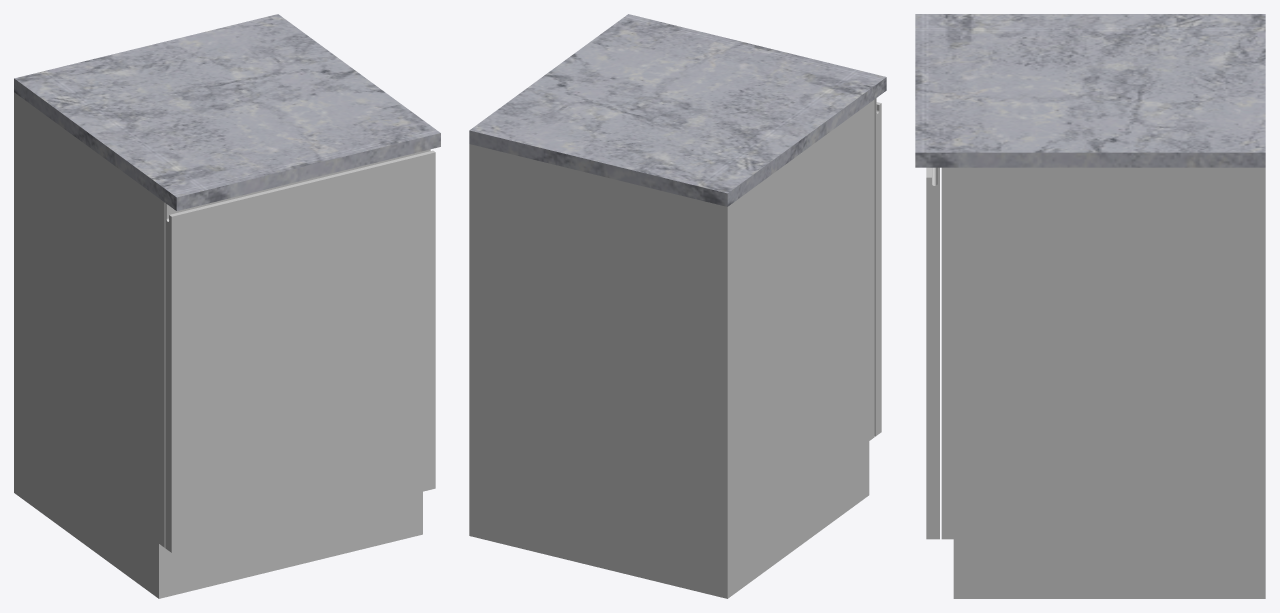
File: kitchen_unit_600.glb
3 views of the same model, side by side, from view 1: azimuth 30°, elevation 25°; view 2: azimuth 150°, elevation 25°; view 3: azimuth 270°, elevation 25° (orthographic). The views are drawn at different scales.
Parts seen in each view (by area): view 1: Geom3D (×2); view 2: Geom3D (×2); view 3: Geom3D (×2).
Part boxes in pixels (box(x1,y1,x2,y2)): Geom3D (×2): box(14, 14, 440, 598); Geom3D (×2): box(469, 14, 886, 598); Geom3D (×2): box(915, 14, 1265, 598).
Bounding box in the file's own units: 0.6 × 0.9 × 0.64.
2 materials, 1 textured.
